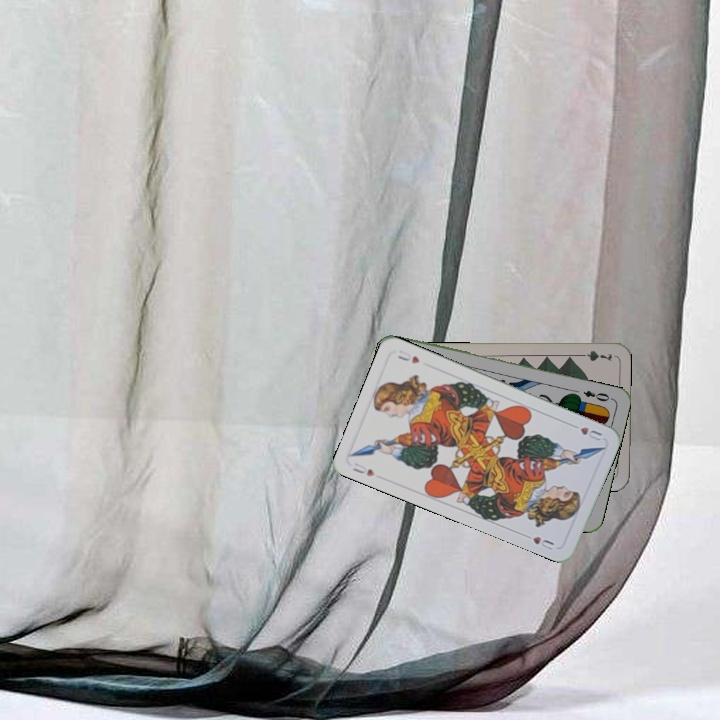EO: (579, 386, 615, 404)
G7: (574, 346, 615, 363)
HU: (576, 423, 605, 443), (349, 459, 377, 479)
